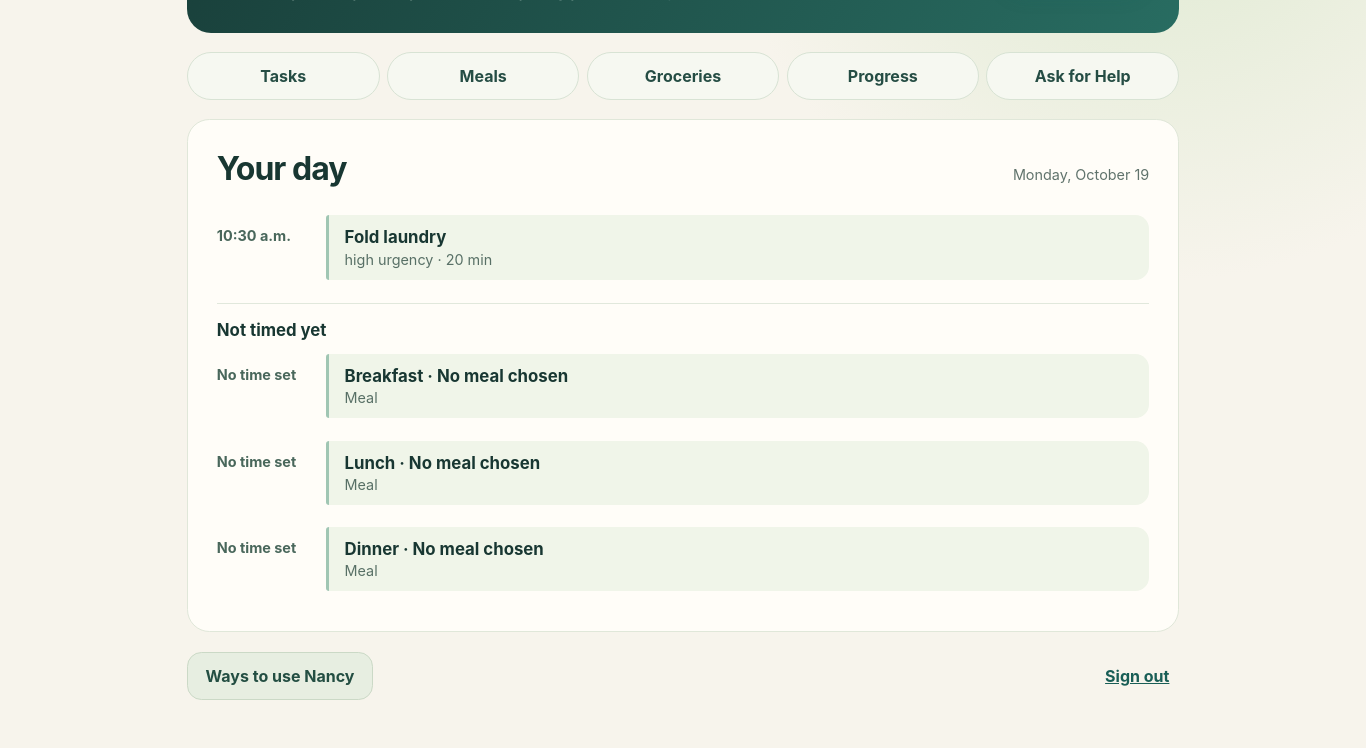
it: October 19 client interface contract › opens the FAQ and both voice-topic pages without starting a microphone or submitting feedback
(page scrolled)
Click the button "Ways to use Nancy". click: [280, 676]
box: [187,652,373,700]
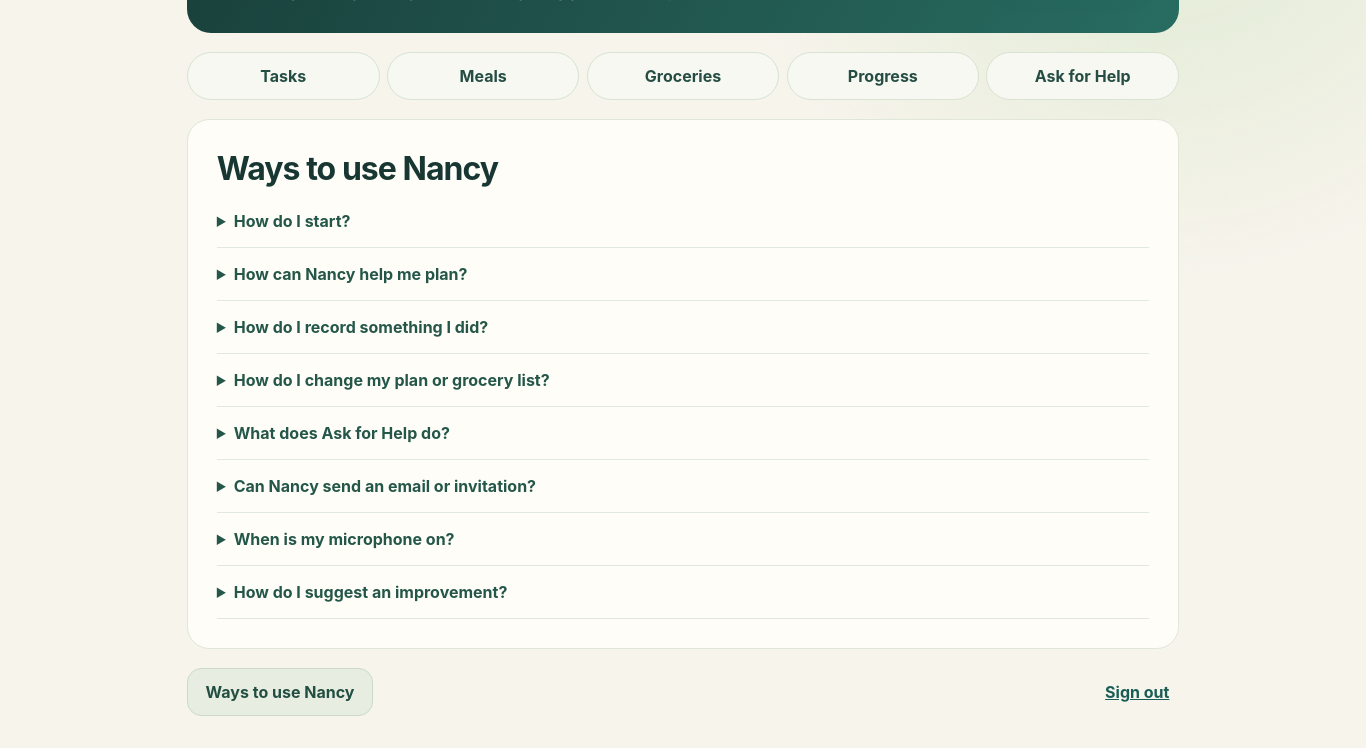
Click the heading "How do I start?". click: [292, 221]
box: [234,211,350,231]
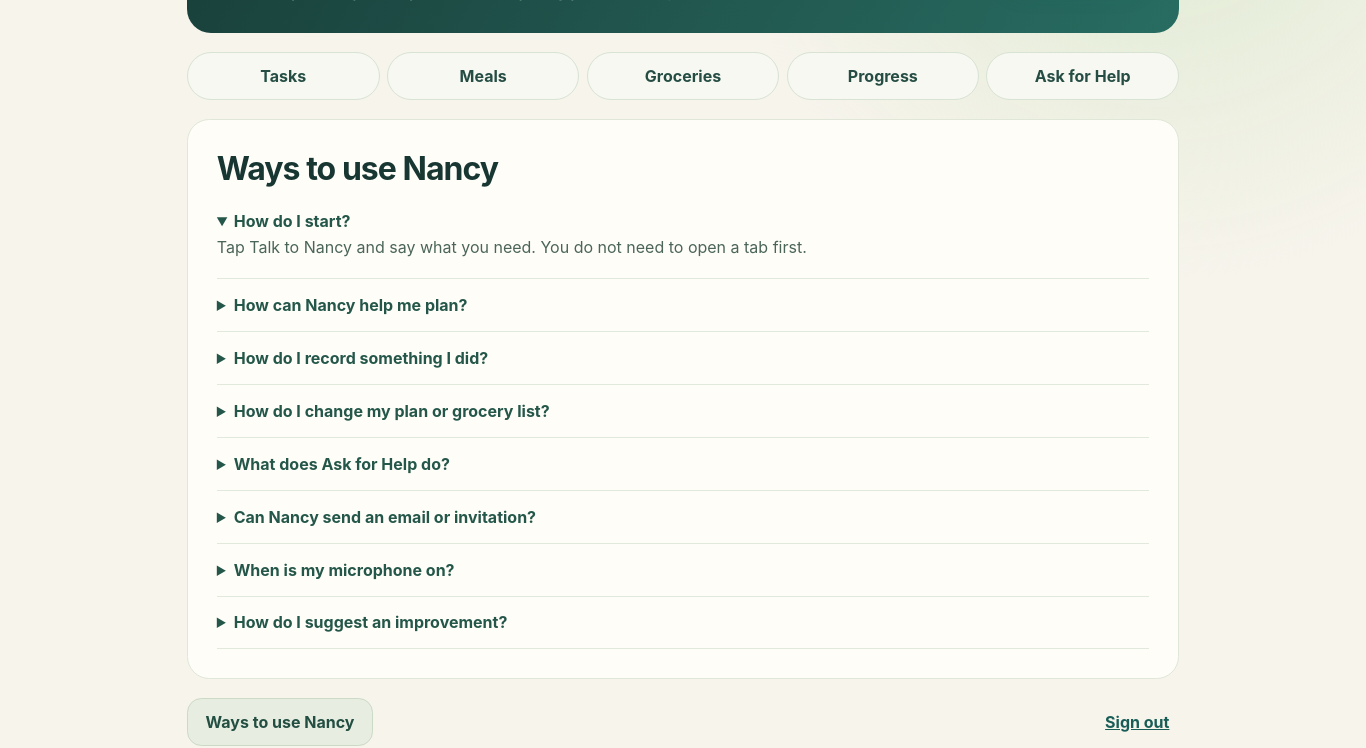
Expected: the text "Tap Talk to Nancy and say what you need" is shown, [217,236,807,256]
Click the button "Ask for Help". click: [1083, 76]
box: [986,52,1179,100]
(page scrolled)
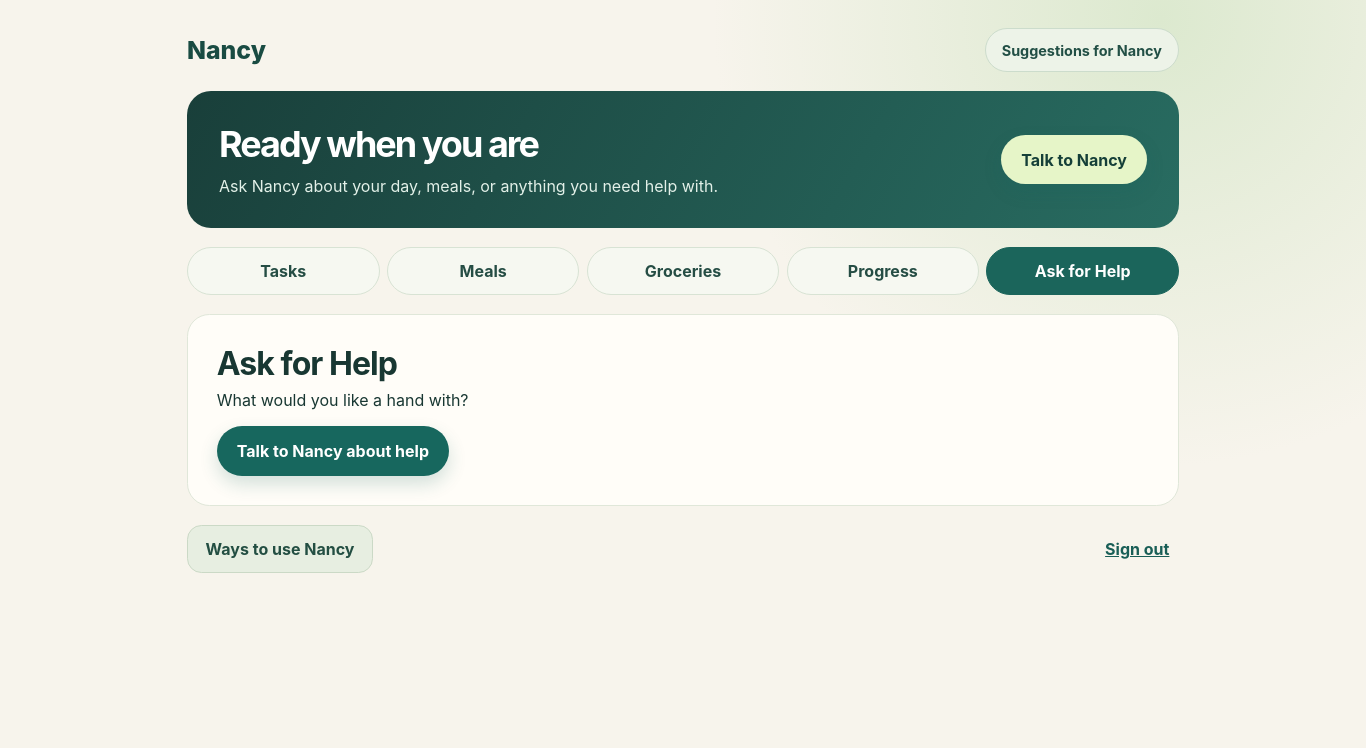
Expected: the text "What would you like a hand with?" is shown, [217,390,468,410]
Click the button "Suggestions for Nancy". click: [1082, 50]
box: [985,28,1179,72]
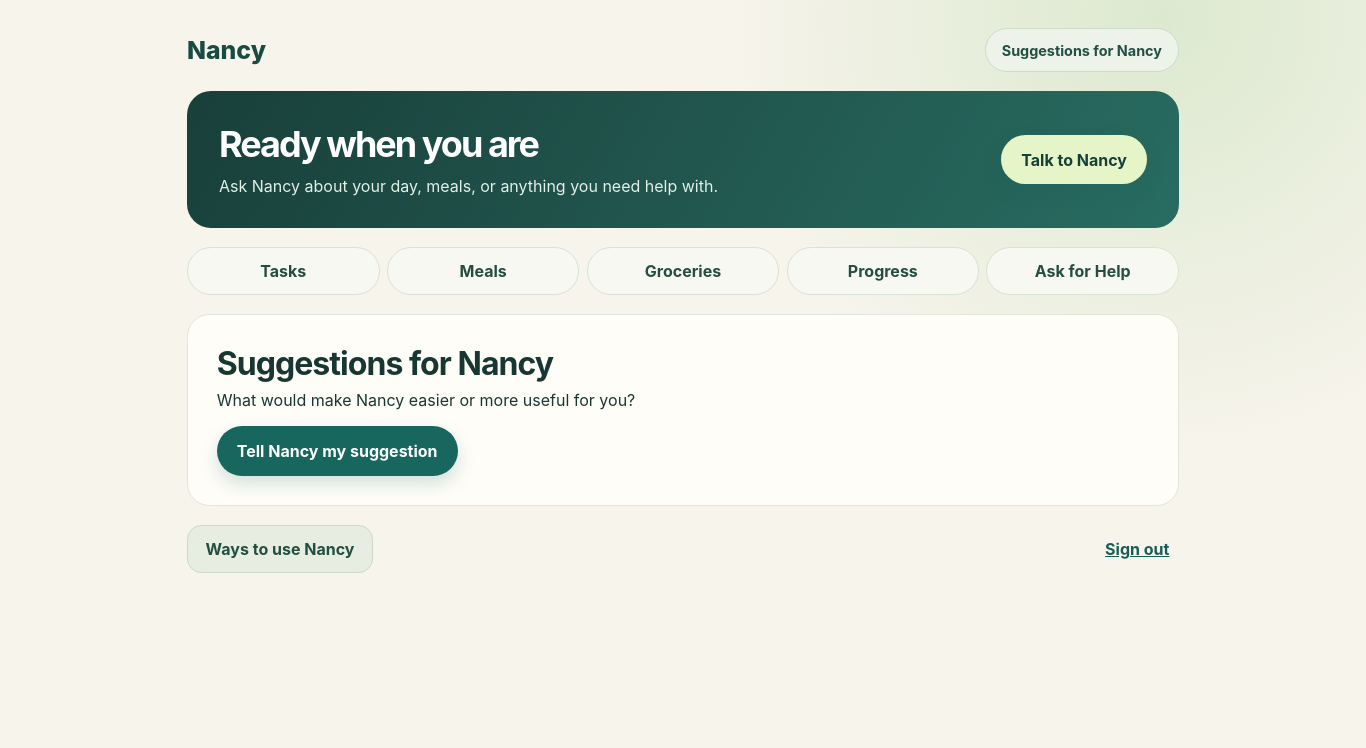
Expected: the button "Tell Nancy my suggestion" is shown, [217,426,458,476]
